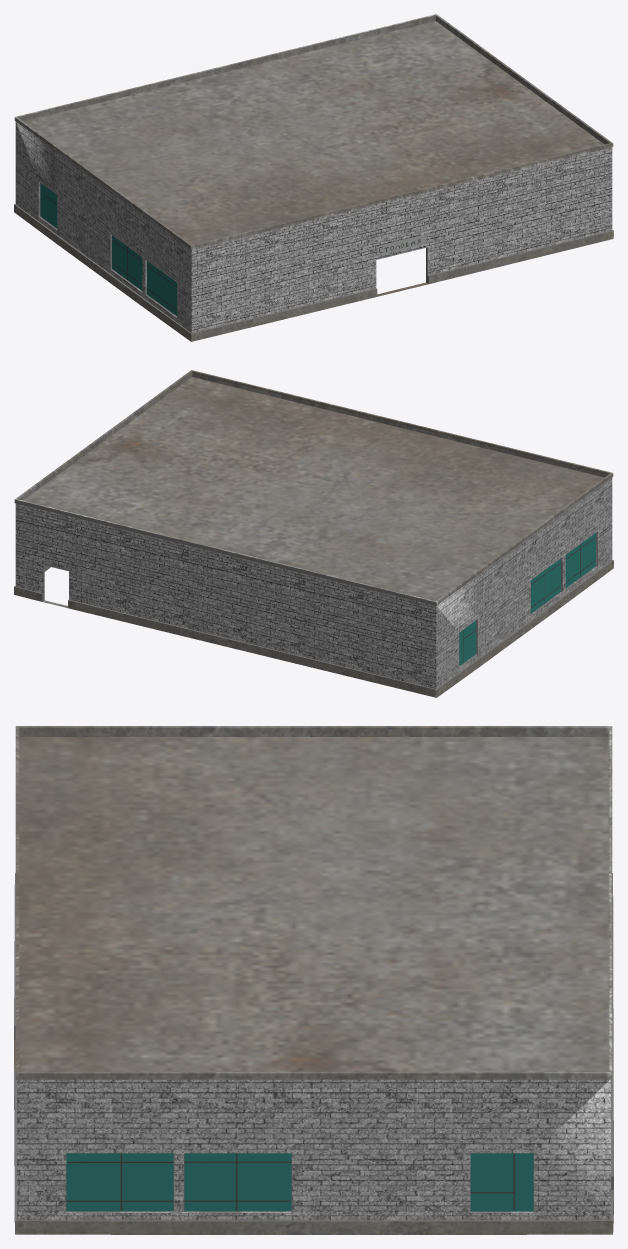
Rendered from stolovaya.glb.
The picture shows the model from 3 angles, top to bottom: view 1: azimuth 30°, elevation 25°; view 2: azimuth 150°, elevation 25°; view 3: azimuth 270°, elevation 25°; orthographic projection. The views are drawn at different scales.
Visible parts, largest first — view 1: Объект; view 2: Объект; view 3: Объект.
Boxes of the visible parts, left/top/right/bottom form: Объект: left=14, top=14, right=613, bottom=341; Объект: left=14, top=370, right=613, bottom=697; Объект: left=14, top=726, right=613, bottom=1234.
Size of the model in its own units: 6.29 by 1.35 by 4.57.
Materials: 1 (1 with a texture image).
